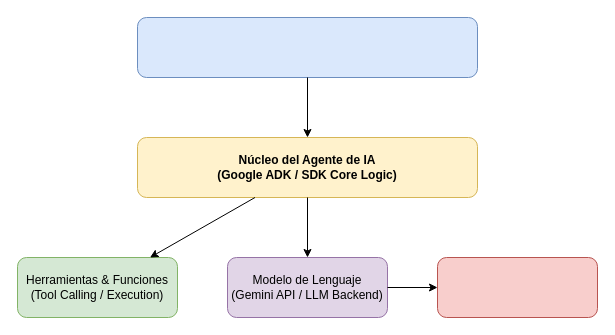
The diagram is 615 pixels wide and 335 high, and some of its shapes have lost their labels. The centre of each missing label's shape, as x and y in pixels:
"Capa de Interfaz / Usuario (CLI / Scripts de Ejecución)" belongs at point 307,47.
"Fuentes de Datos & Contexto (Local / APIs / Almacenamiento)" belongs at point 517,287.
